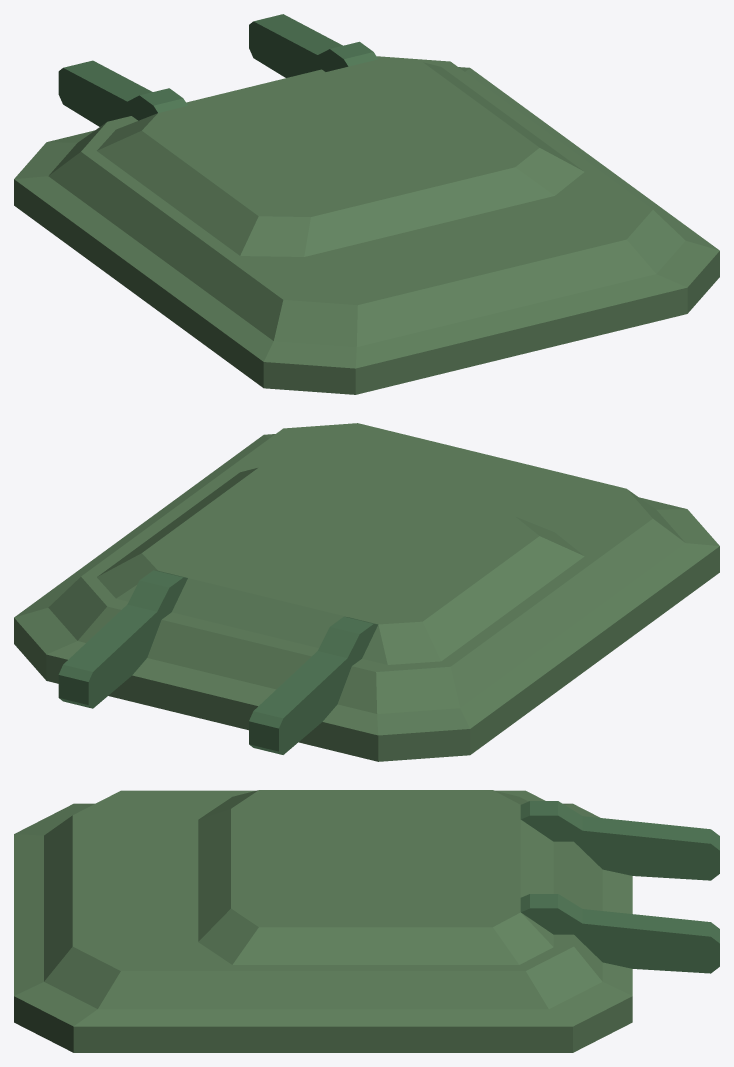
File: SM_Prop_RubbishBin_02_Lid.obj
The picture shows the model from 3 angles, top to bottom: view 1: azimuth 30°, elevation 25°; view 2: azimuth 150°, elevation 25°; view 3: azimuth 270°, elevation 25°; orthographic projection.
Visible parts, largest first — view 1: SM_Prop_RubbishBin_02_Lid_0; view 2: SM_Prop_RubbishBin_02_Lid_0; view 3: SM_Prop_RubbishBin_02_Lid_0.
Boxes of the visible parts, box(x1,y1,x2,y2) form: SM_Prop_RubbishBin_02_Lid_0: box(14, 14, 719, 394); SM_Prop_RubbishBin_02_Lid_0: box(14, 423, 719, 761); SM_Prop_RubbishBin_02_Lid_0: box(14, 790, 719, 1052).
Size of the model in its own units: 0.7831 by 0.1424 by 1.05.
1 material, 1 textured.
